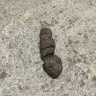Dog: (40, 28, 63, 79)
